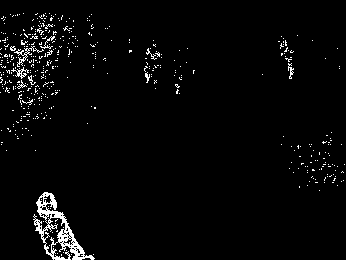person: (34, 191, 96, 260)
